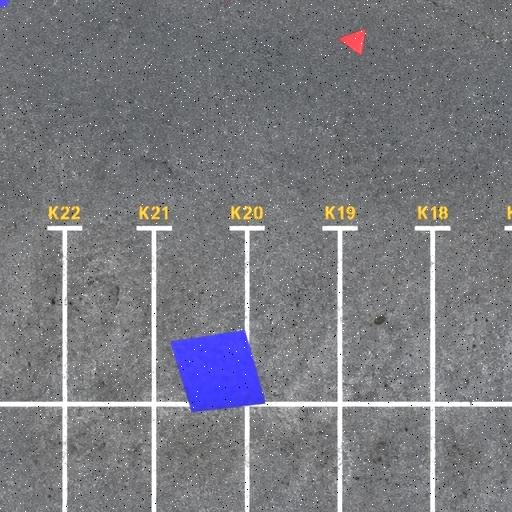BLUE_SQUARE: (170, 330, 266, 412)
